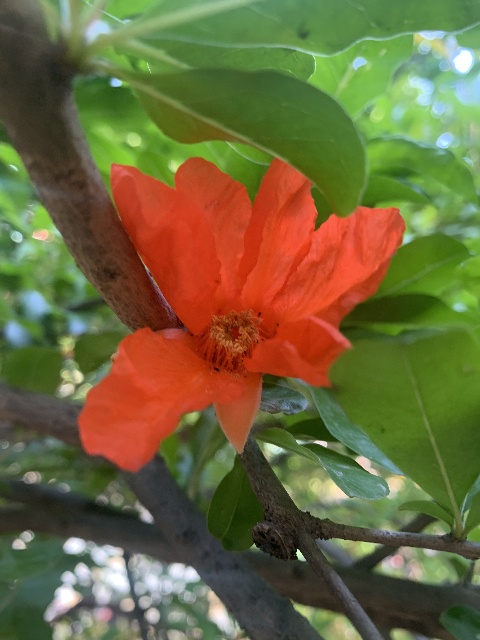flower: (76, 145, 405, 466)
